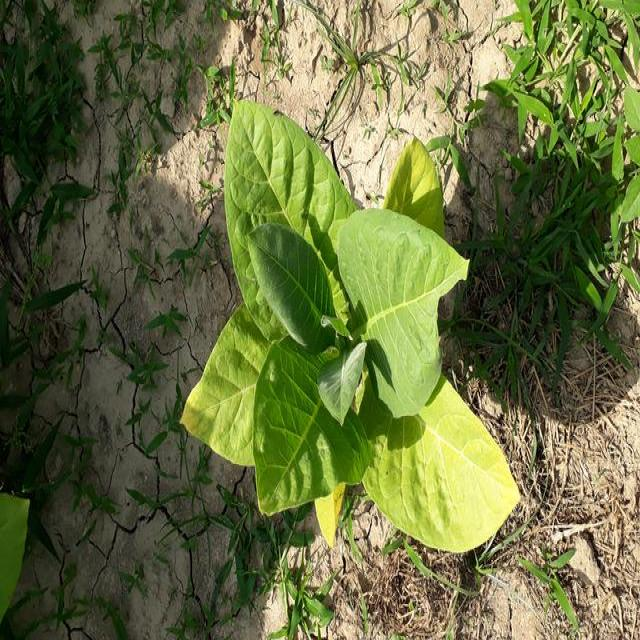crop: (196, 104, 522, 563), (0, 490, 40, 634)
